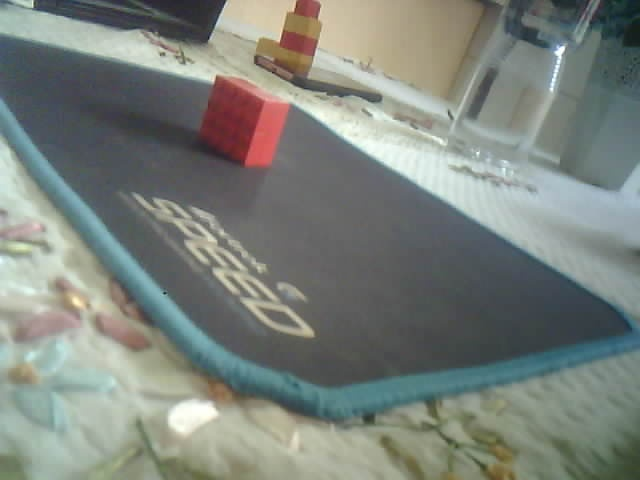lego: (196, 73, 290, 169), (280, 1, 322, 72), (255, 37, 280, 59)
